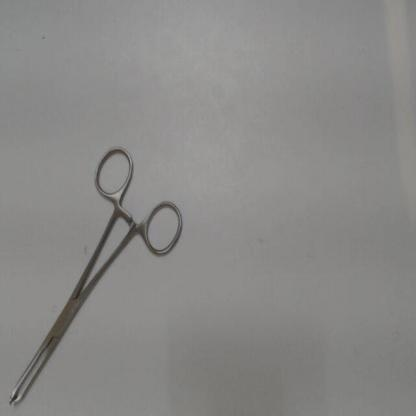Allis Tissue Forceps: (3, 140, 192, 414)
